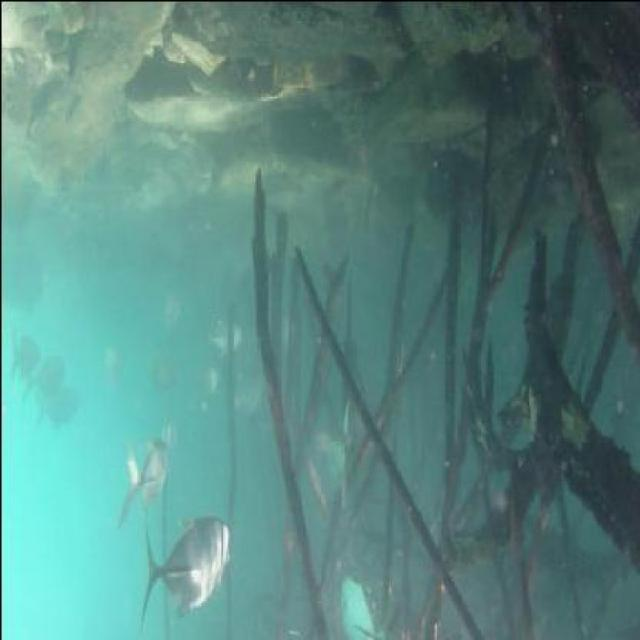Caranx_sexfasciatus_juvenile: (140, 496, 231, 624), (112, 416, 176, 527), (331, 562, 384, 638), (307, 408, 351, 489), (140, 324, 178, 402), (227, 356, 268, 421), (6, 310, 43, 382), (102, 326, 136, 399), (328, 391, 362, 464), (200, 300, 245, 355), (192, 353, 225, 425), (28, 375, 78, 422), (28, 351, 68, 406)
